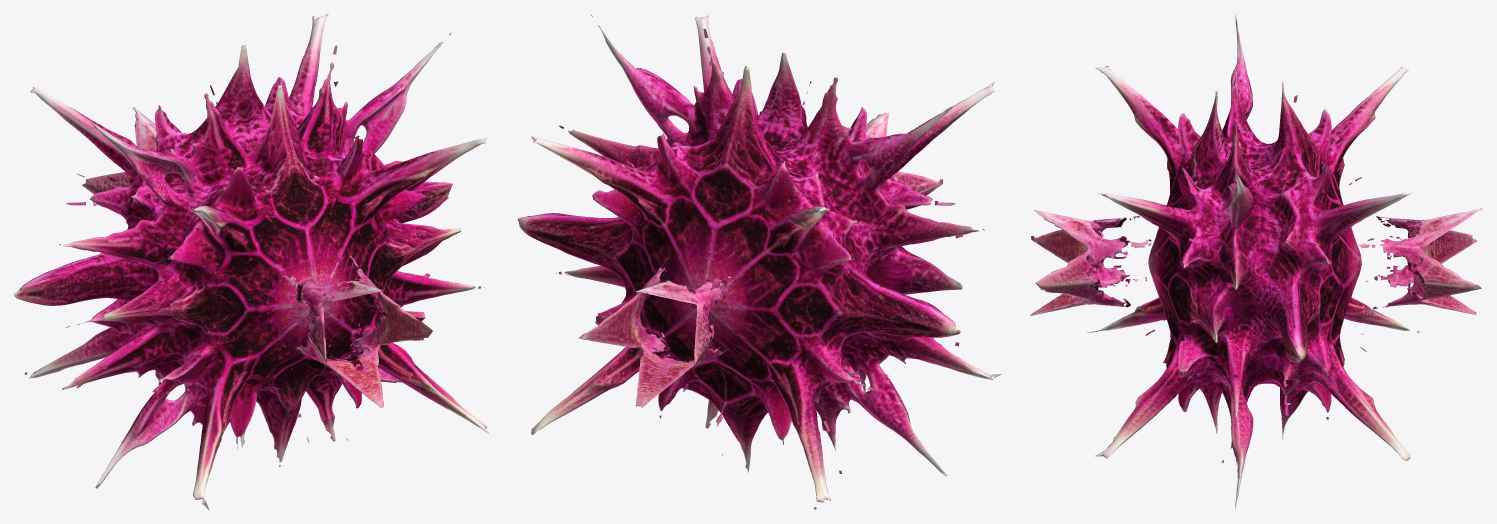
The model's file is node-issue.glb.
The picture shows the model from 3 angles, left to right: view 1: azimuth 30°, elevation 25°; view 2: azimuth 150°, elevation 25°; view 3: azimuth 270°, elevation 25°; orthographic projection. The views are drawn at different scales.
Visible parts, largest first — view 1: Mesh_0; view 2: Mesh_0; view 3: Mesh_0.
Part boxes in pixels (<box>): Mesh_0: <box>14,14,488,509</box>; Mesh_0: <box>517,14,1000,509</box>; Mesh_0: <box>1030,14,1482,509</box>.
Bounding box in the file's own units: 1.89 × 1.7 × 1.87.
1 material, 1 textured.
